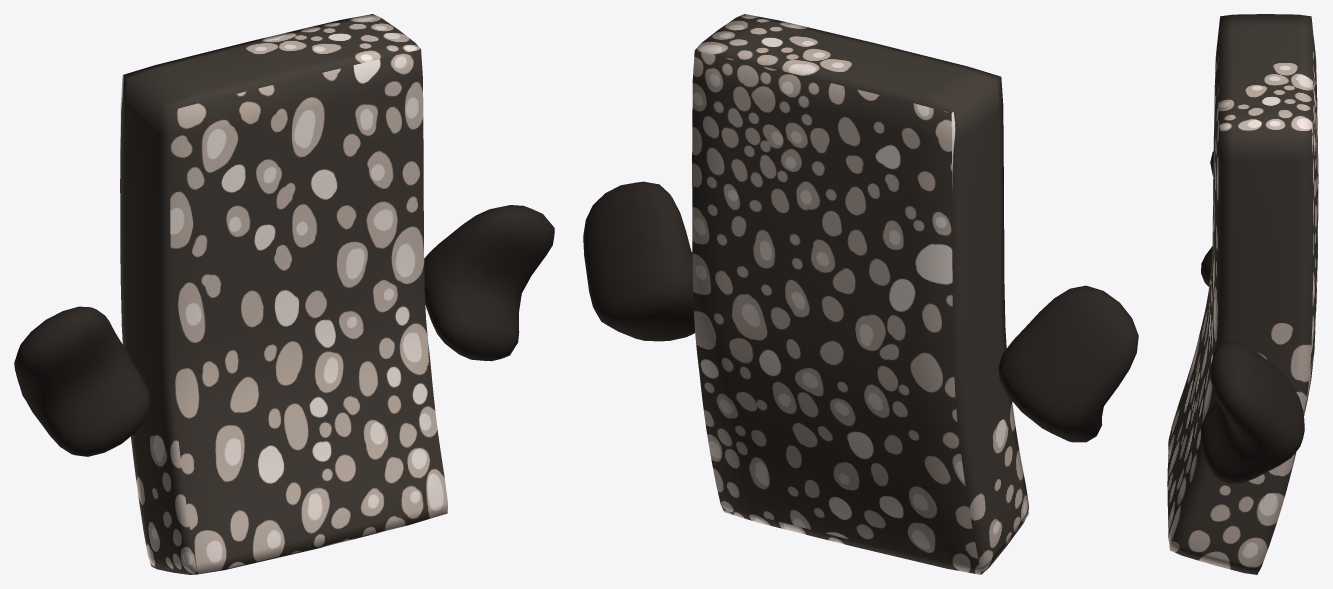
The model's file is rice_uv_test.fbx.
3 views of the same model, side by side, from view 1: azimuth 30°, elevation 25°; view 2: azimuth 150°, elevation 25°; view 3: azimuth 270°, elevation 25° (orthographic). The views are drawn at different scales.
Parts seen in each view (by area): view 1: body, hand_r, hand_l; view 2: body, hand_r, hand_l; view 3: body, hand_l, hand_r.
Part boxes in pixels (x1,y1,x2,y2): body: (120, 14, 447, 574); hand_r: (14, 306, 150, 456); hand_l: (424, 205, 554, 361); body: (692, 14, 1028, 574); hand_r: (998, 285, 1138, 442); hand_l: (583, 181, 694, 341); body: (1167, 14, 1318, 574); hand_l: (1201, 341, 1304, 483); hand_r: (1201, 151, 1213, 286).
Bounding box in the file's own units: 3.17 × 2.72 × 0.8248.
